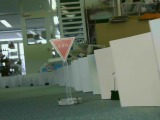stop: (48, 37, 74, 62)
